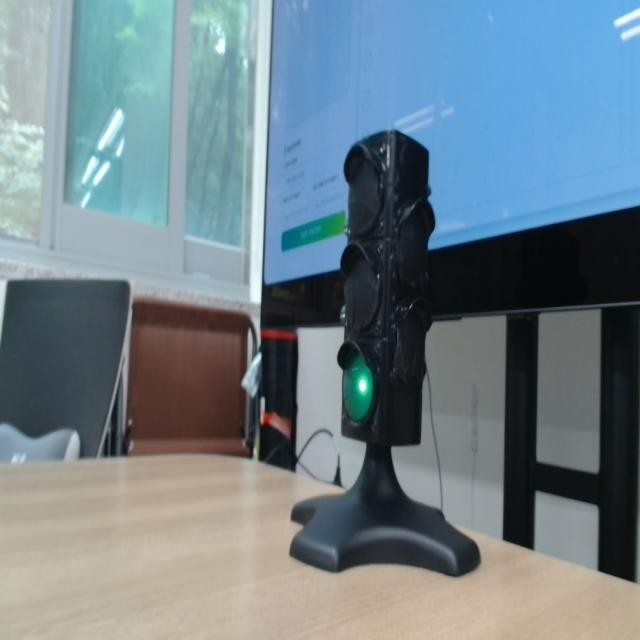green_light: (343, 351, 373, 423), (359, 378, 367, 393)
